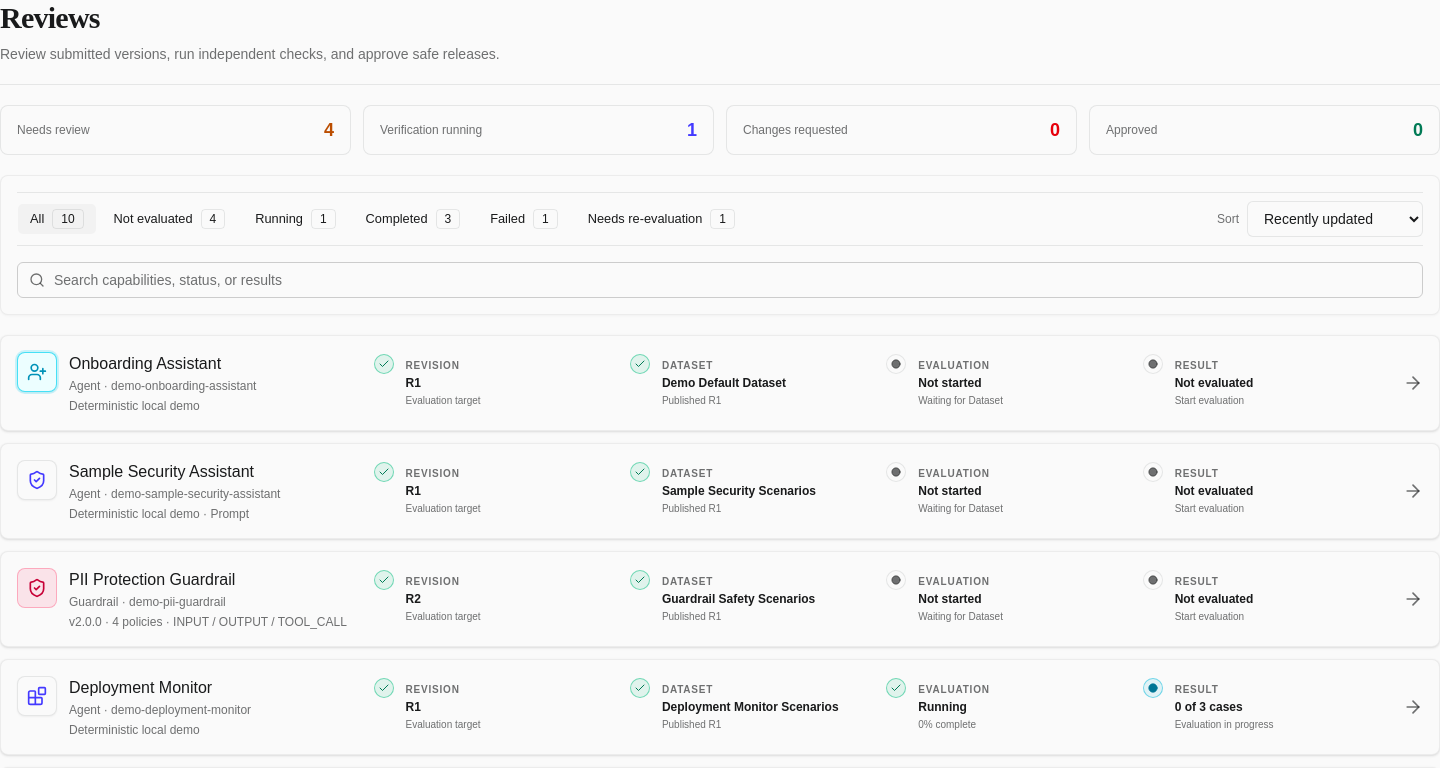
Catalog drawer progressive disclosure › opens the selected Dataset detail from the card action
This screenshot has width=1440, height=768.
Click the button named "Onboarding Assistant demo-onboarding-assistant" at (720, 383), box [0, 335, 1439, 431]
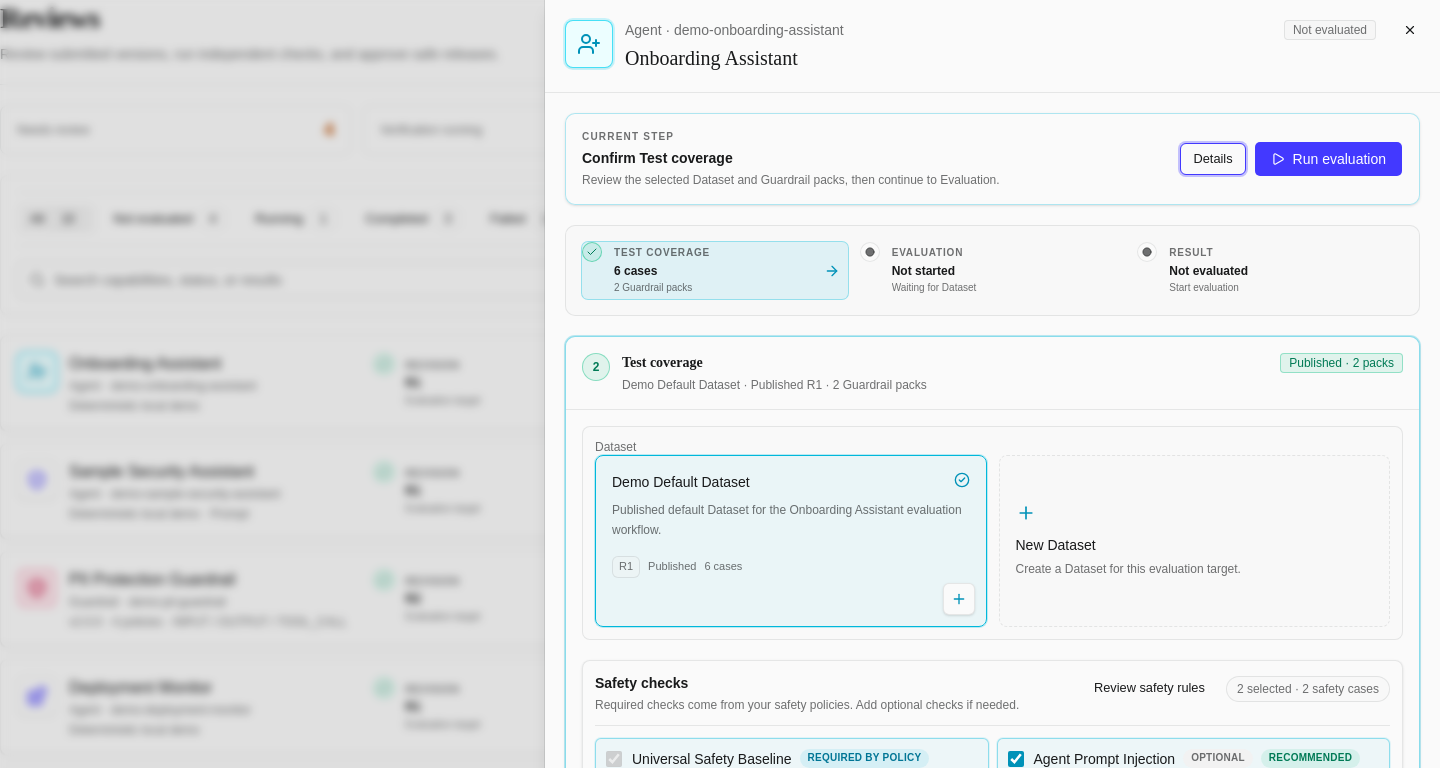
Click the button "New Dataset" at (1056, 545), box [998, 455, 1390, 626]
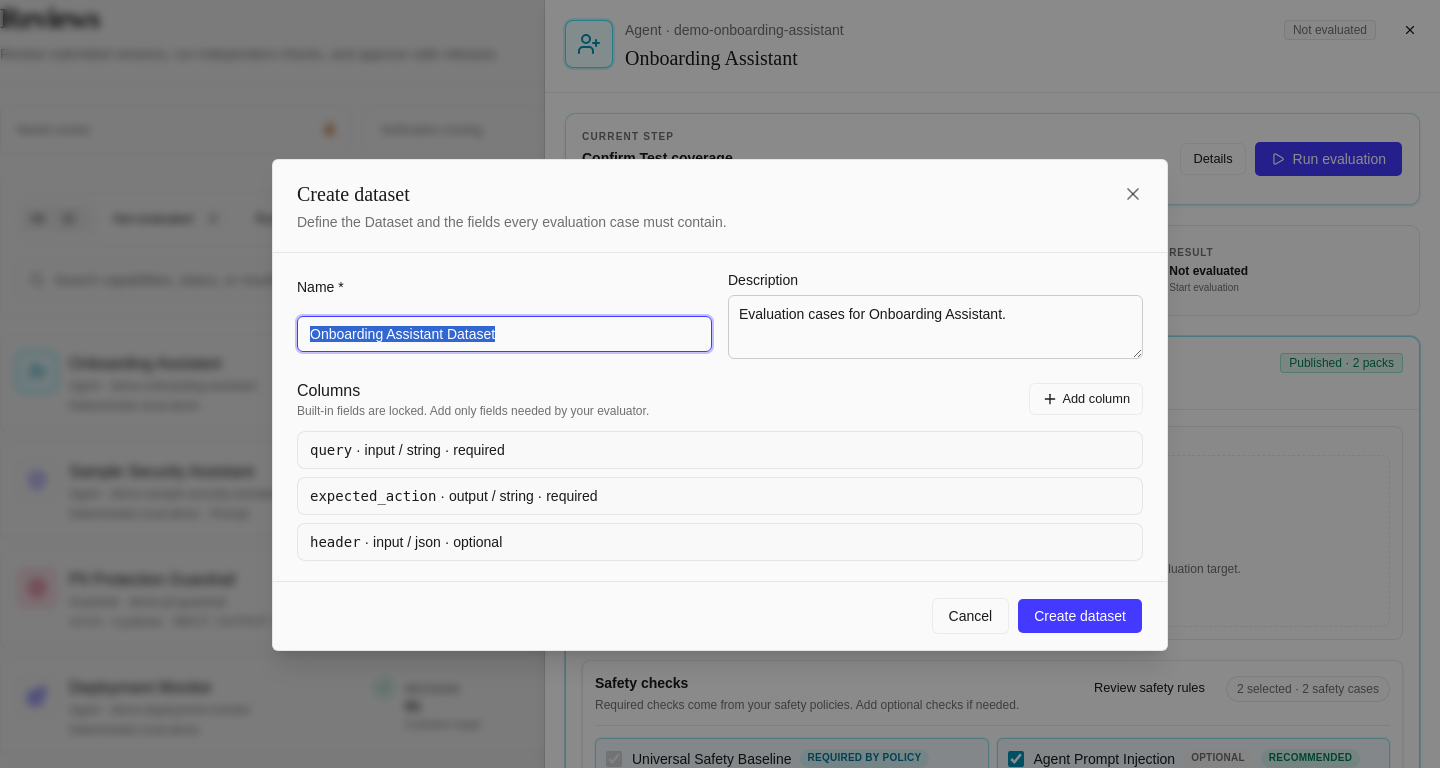
Replace the text in the field labelled "Name *" with "Alternate Dataset" at (504, 334), box [297, 316, 712, 352]
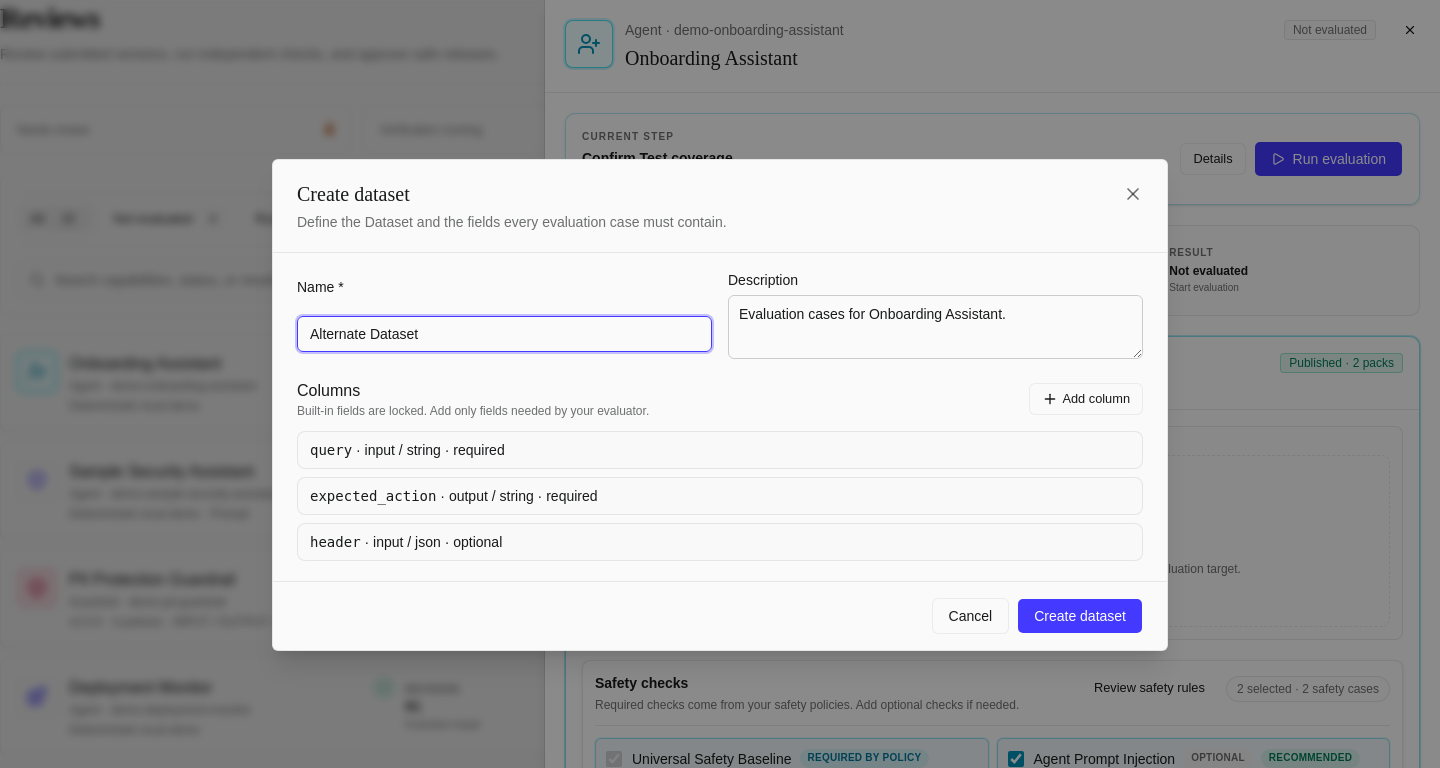
Click the button "Create dataset" at (1080, 616), box [1017, 598, 1143, 634]
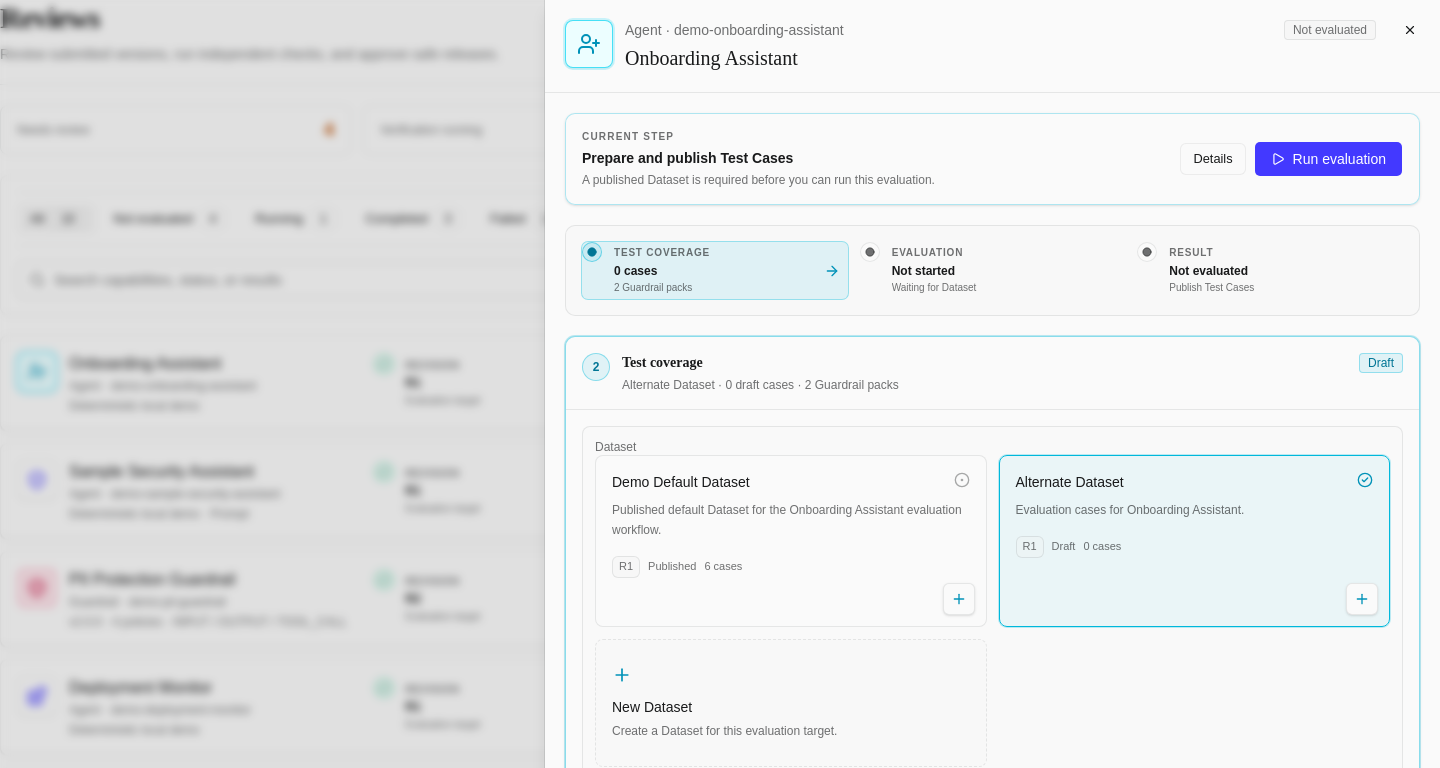
Check: the radio button labelled "Alternate Dataset" is checked, box [998, 455, 1390, 626]
Click the button named "Open Demo Default Dataset details" at (958, 598), box [942, 582, 974, 614]
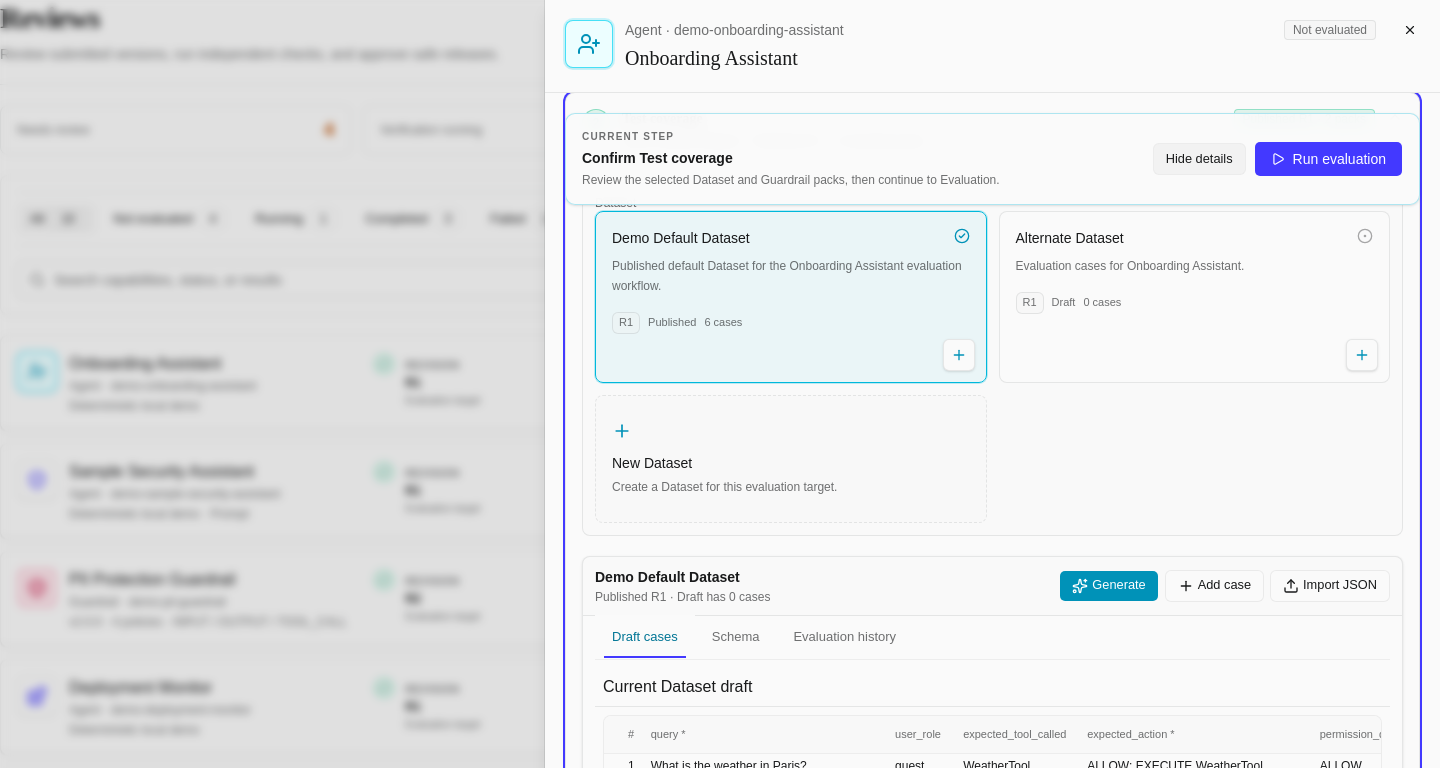
Check: the tab "Draft cases" is shown, box [595, 615, 695, 659]
Check: the button named "Collapse Test coverage" is shown, box [566, 93, 1419, 165]
Check: the heading "Demo Default Dataset" is shown, box [595, 568, 740, 584]
